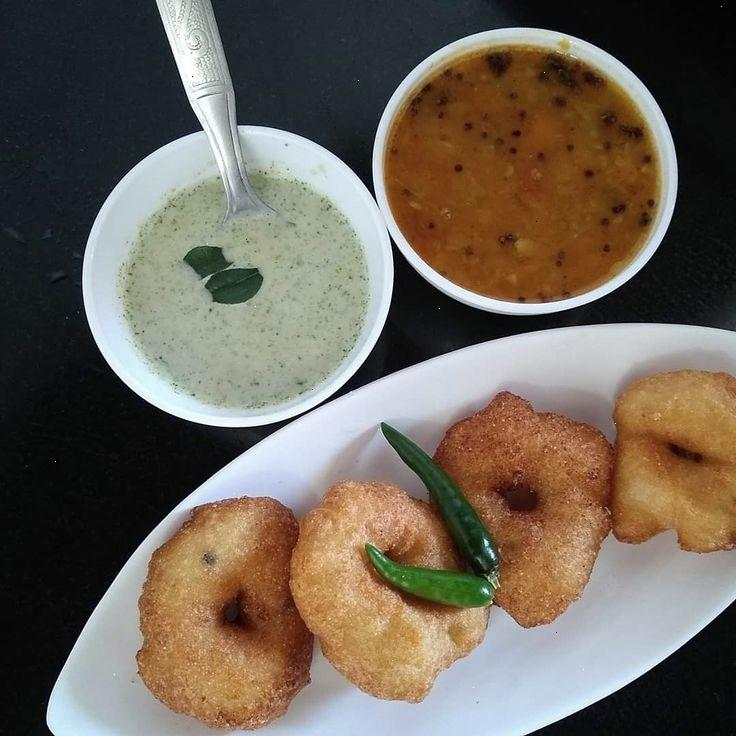coconut chutney: (123, 185, 372, 409)
medu vada: (104, 404, 736, 736)
sambhar: (398, 61, 645, 298)
